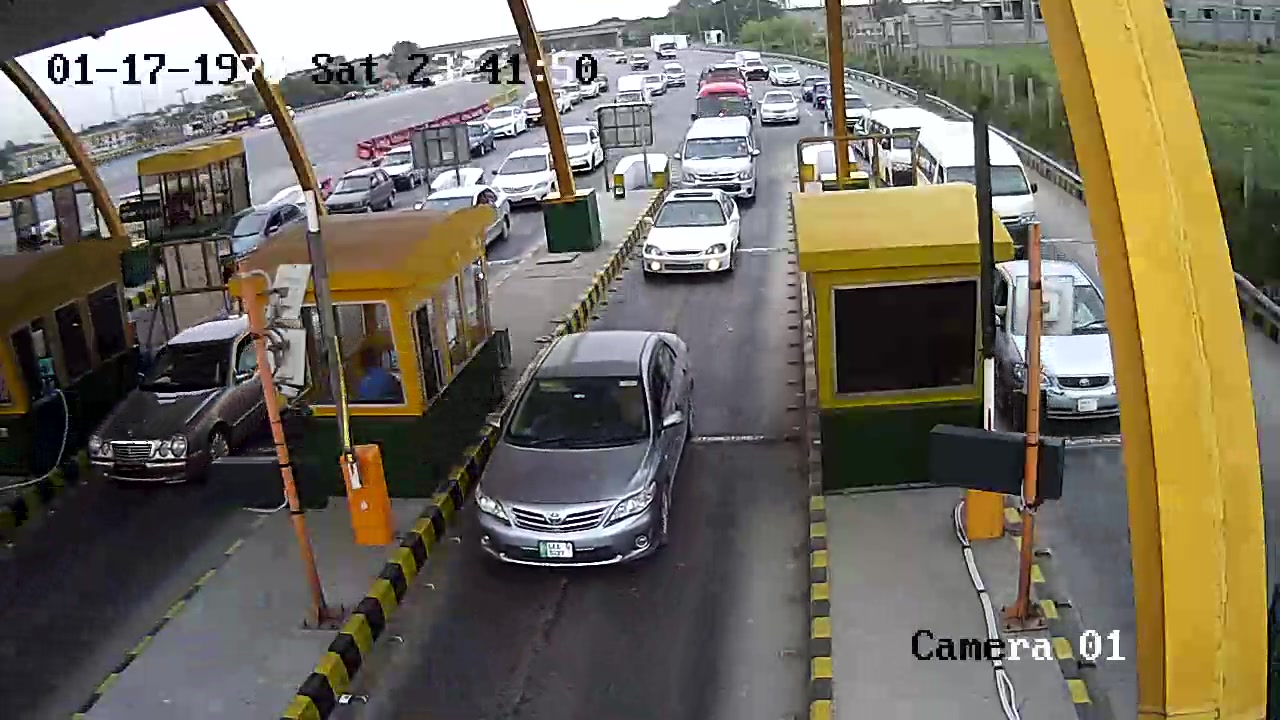F1: (467, 321, 723, 576), (634, 185, 744, 293)
